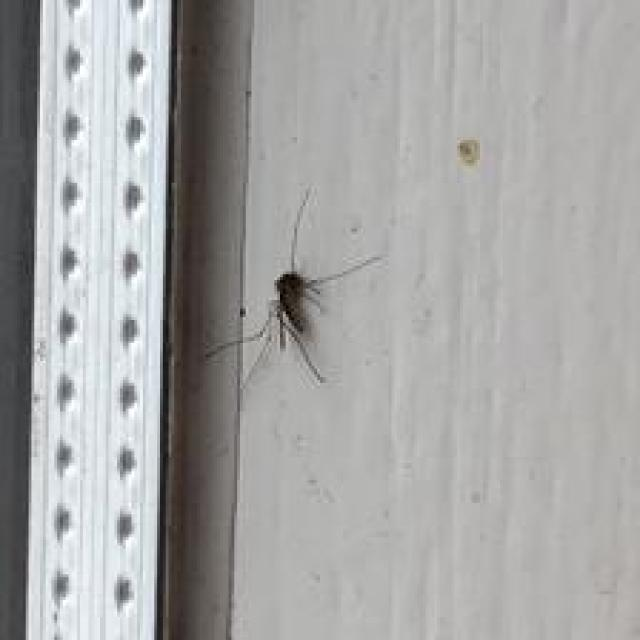Culex: (203, 184, 386, 393)
